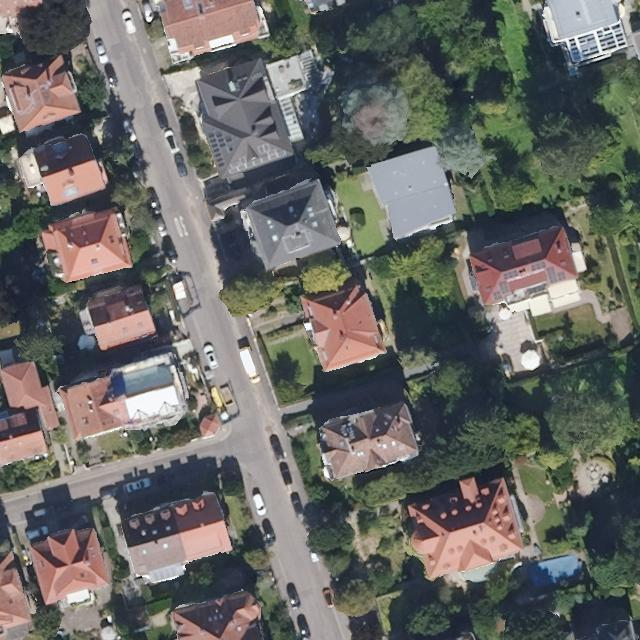PV: (207, 131, 233, 169), (530, 260, 568, 284), (492, 269, 519, 301)
